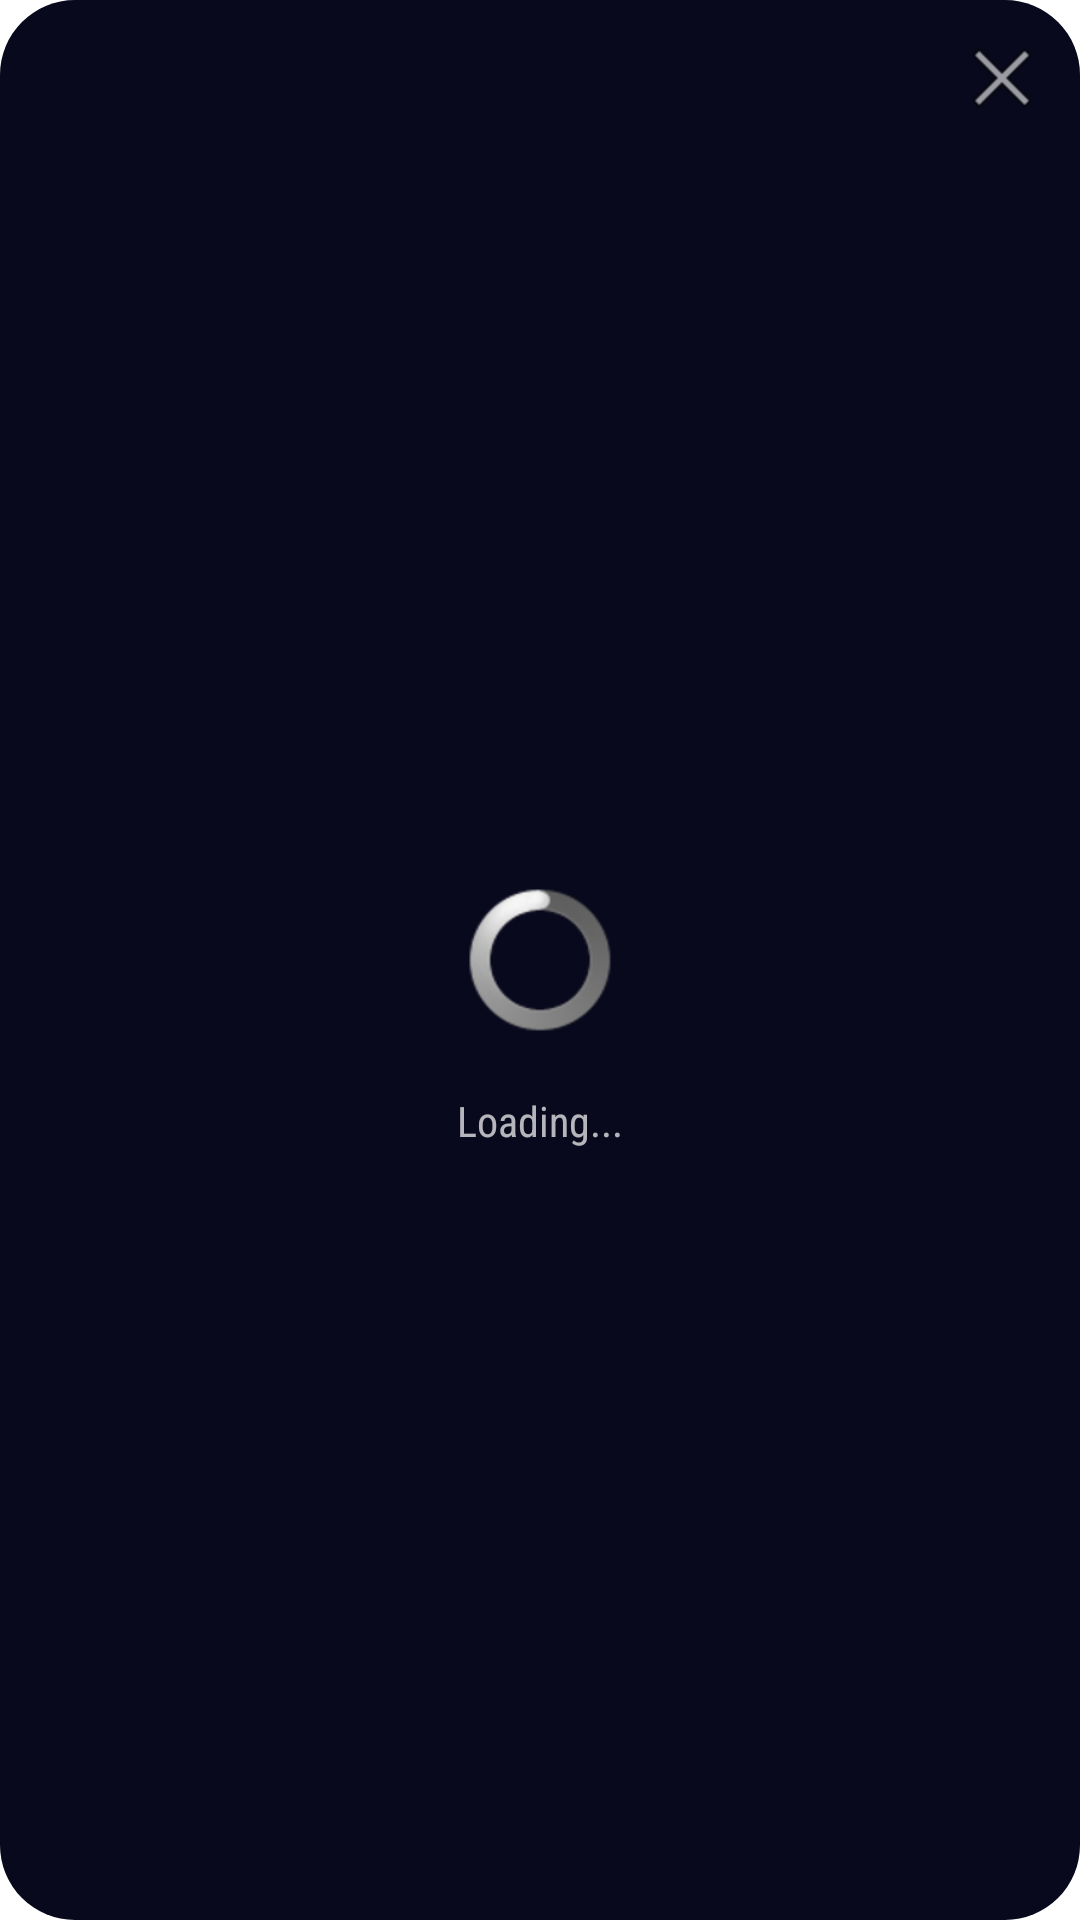

Icon bounding boxes for this 1080px x 1920px phone screenshot, format BBox(x1, y1, x2, y2):
close clear cancel: BBox(975, 51, 1029, 105)
